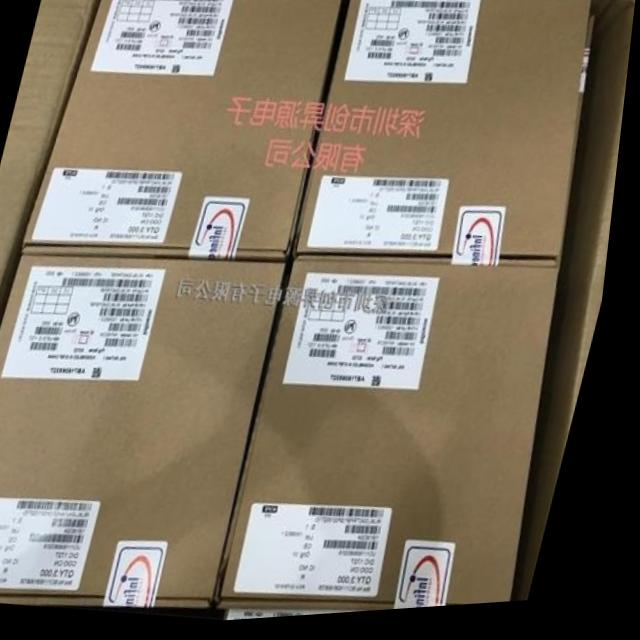box: (226, 264, 568, 617), (0, 256, 294, 611), (26, 0, 348, 267), (293, 0, 599, 270)
